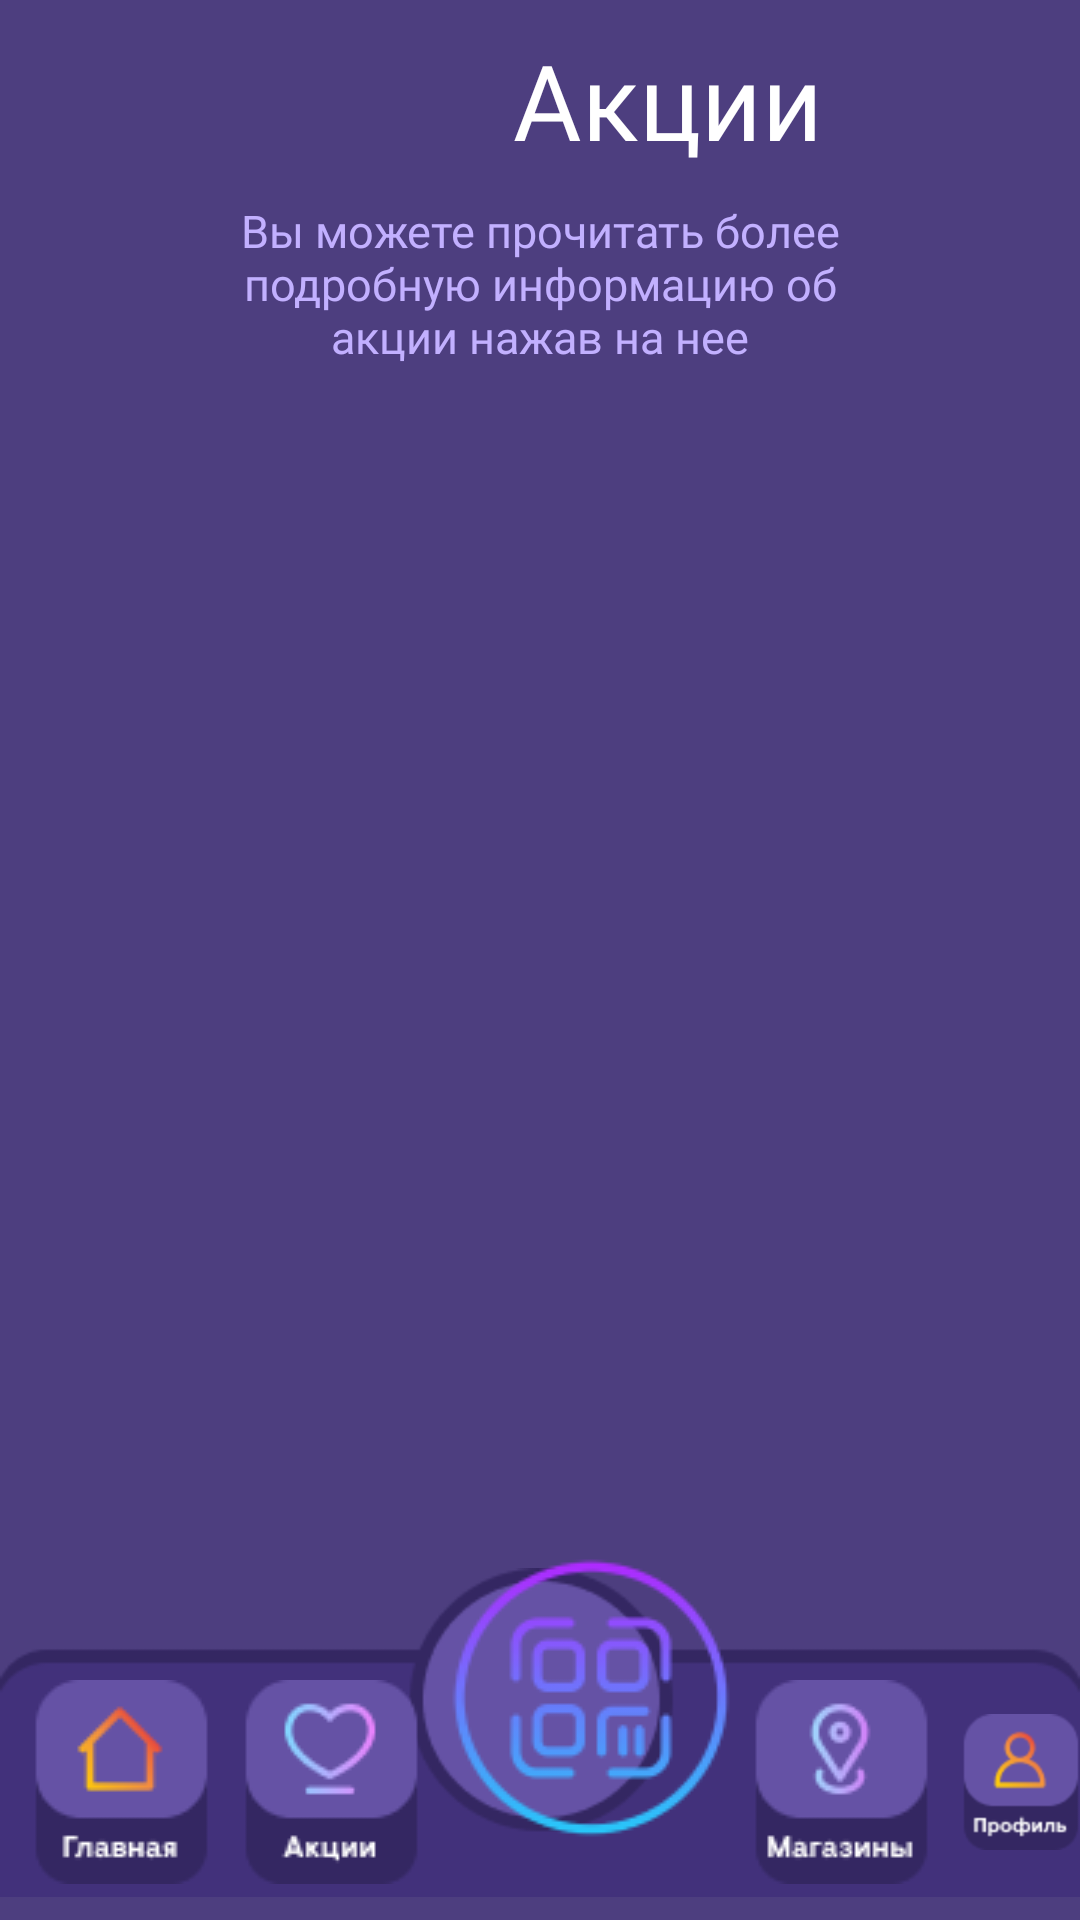

Point at icon controls on the screen. Image size 1080x1920, points as point (x, y).
premium qr code: point (591, 1697)
